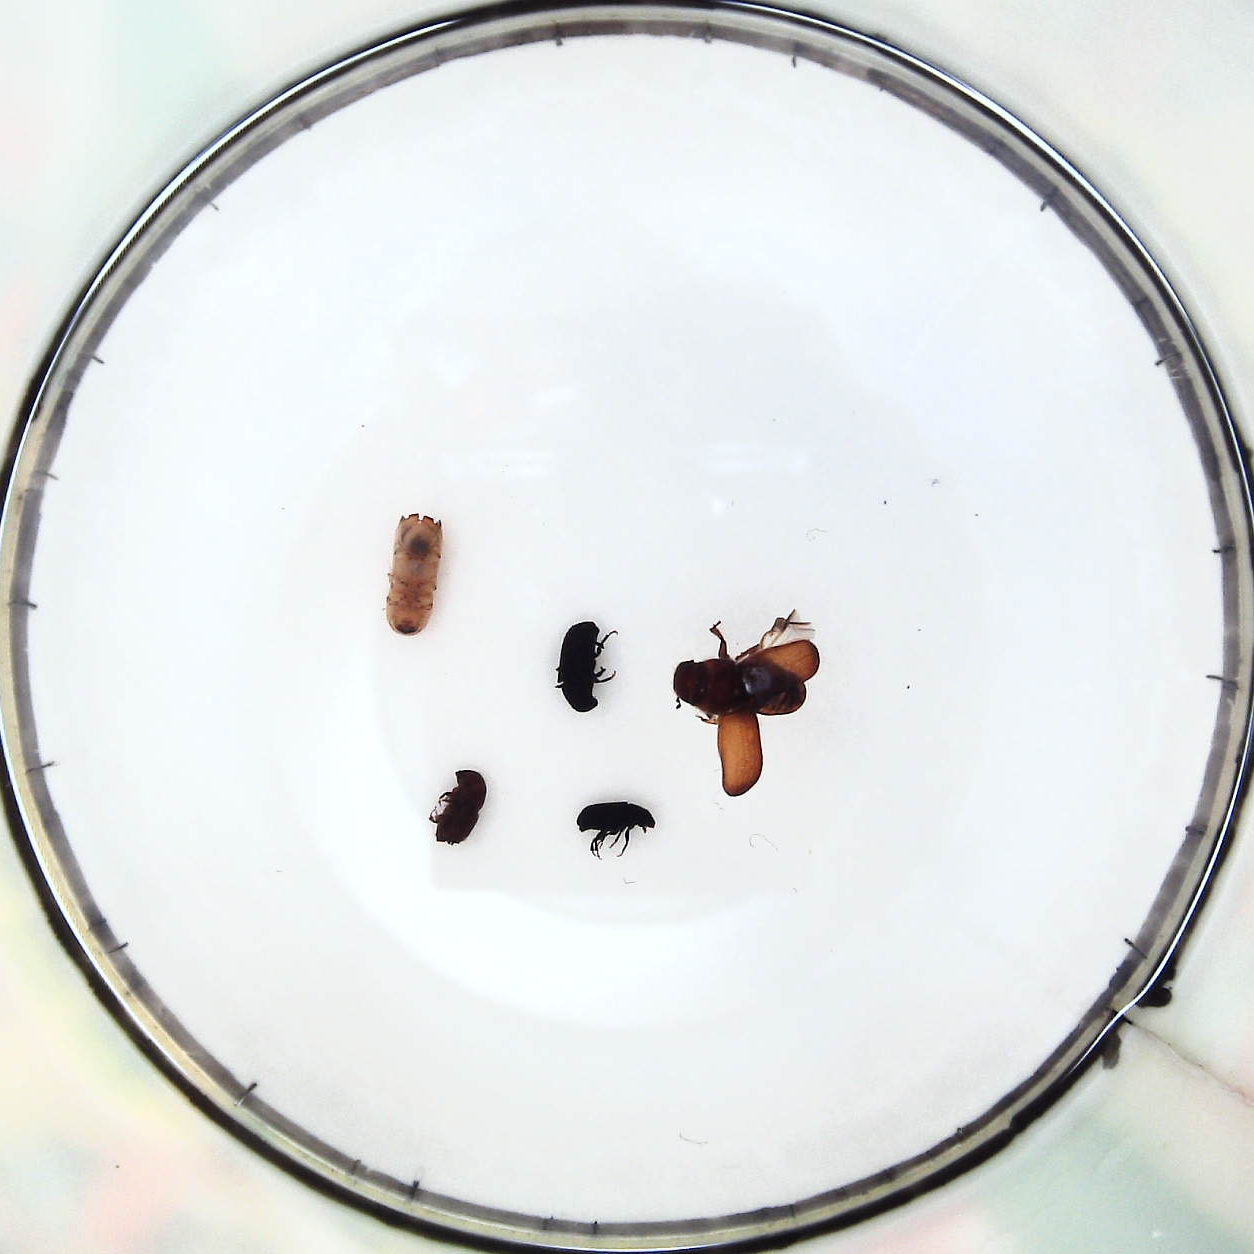Boerner: (385, 506, 443, 638)
Leconte: (678, 616, 825, 795)
Linnaeus: (438, 774, 486, 844)
armandi: (558, 619, 612, 717)
coleoptera: (576, 798, 658, 856)
